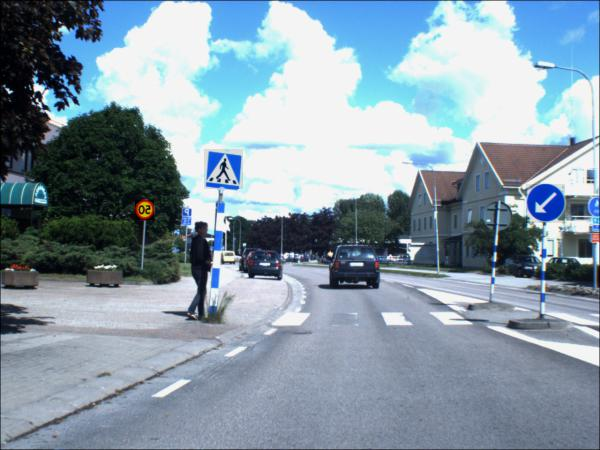50_SIGN: (135, 201, 155, 222)
PASS_RIGHT_SIDE: (526, 185, 566, 225)
PEDESTRIAN_CROSSING: (204, 150, 244, 191)
